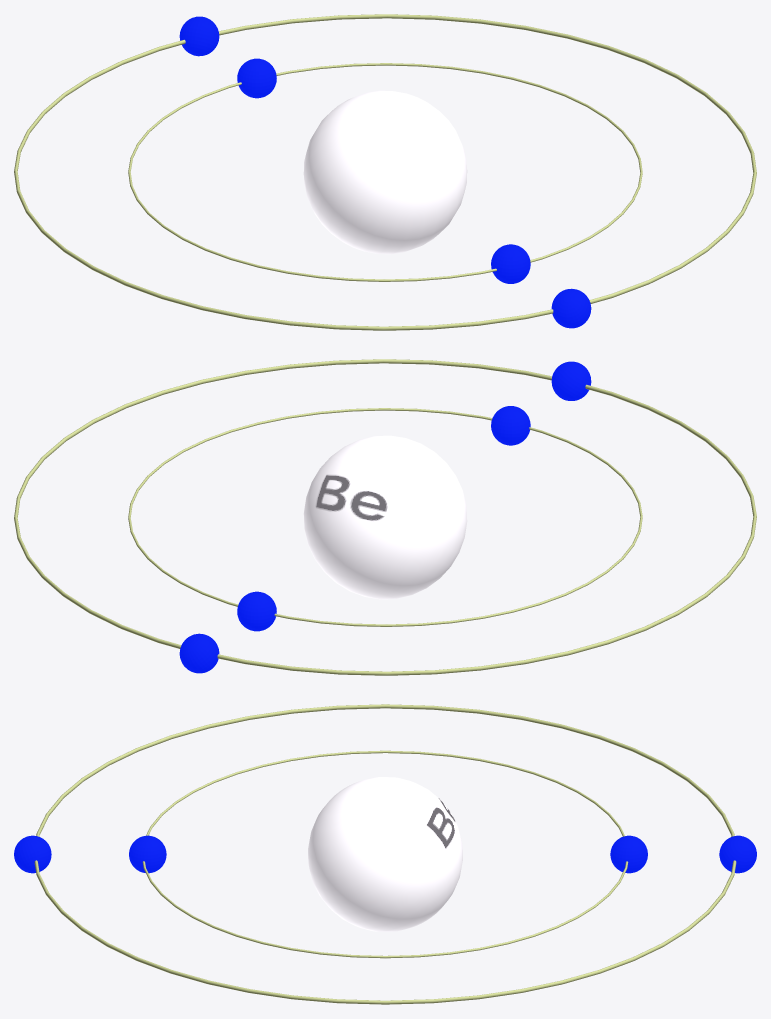
The picture shows the model from 3 angles, top to bottom: view 1: azimuth 30°, elevation 25°; view 2: azimuth 150°, elevation 25°; view 3: azimuth 270°, elevation 25°; orthographic projection. The views are drawn at different scales.
Parts seen in each view (by area): view 1: 球体, 贝塞尔圆环.001, 贝塞尔圆环, 球体.009, 球体.001, 球体.004, 球体.007; view 2: 球体, 贝塞尔圆环.001, 贝塞尔圆环, 球体.007, 球体.004, 球体.001, 球体.009; view 3: 球体, 贝塞尔圆环.001, 贝塞尔圆环, 球体.001, 球体.004, 球体.009, 球体.007.
Part boxes in pixels (x1,y1,x2,y2): 球体: (303, 90, 467, 254); 贝塞尔圆环.001: (14, 14, 756, 330); 贝塞尔圆环: (128, 63, 642, 281); 球体.009: (551, 288, 591, 328); 球体.001: (237, 58, 276, 98); 球体.004: (491, 244, 530, 283); 球体.007: (179, 16, 219, 56); 球体: (303, 435, 467, 599); 贝塞尔圆环.001: (14, 359, 756, 675); 贝塞尔圆环: (128, 408, 642, 626); 球体.007: (179, 633, 219, 673); 球体.004: (491, 406, 530, 445); 球体.001: (237, 591, 276, 631); 球体.009: (551, 361, 591, 400); 球体: (308, 777, 462, 931); 贝塞尔圆环.001: (34, 704, 736, 1004); 贝塞尔圆环: (142, 750, 628, 958); 球体.001: (610, 835, 647, 873); 球体.004: (129, 835, 166, 873); 球体.009: (14, 835, 51, 873); 球体.007: (719, 835, 756, 873).
Size of the model in its own units: 1.76 by 0.3877 by 1.85.
Materials: 3 (1 with a texture image).
